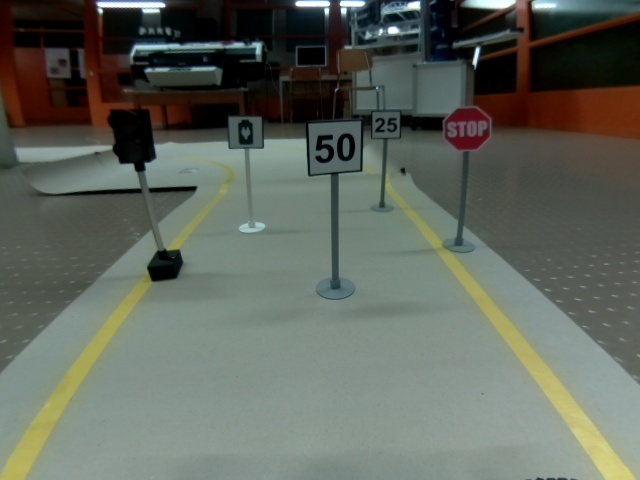battery: (225, 112, 265, 152)
speed25: (370, 109, 402, 141)
speed50: (304, 118, 364, 176)
stop: (441, 105, 494, 153)
traffic light: (105, 107, 158, 167)
